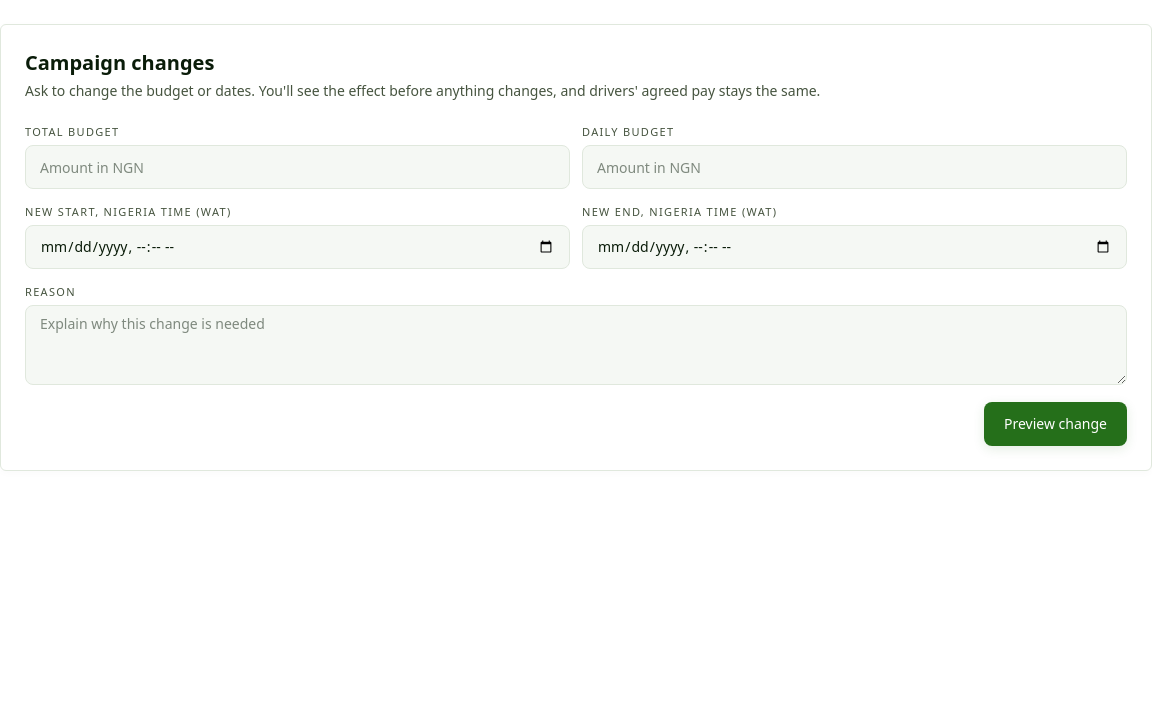
Test: CampaignChangePanel › clears a preview when Daily budget changes and requires another preview
Type "1100.00" into the field labelled "Total budget" at (298, 167), box [25, 145, 570, 189]
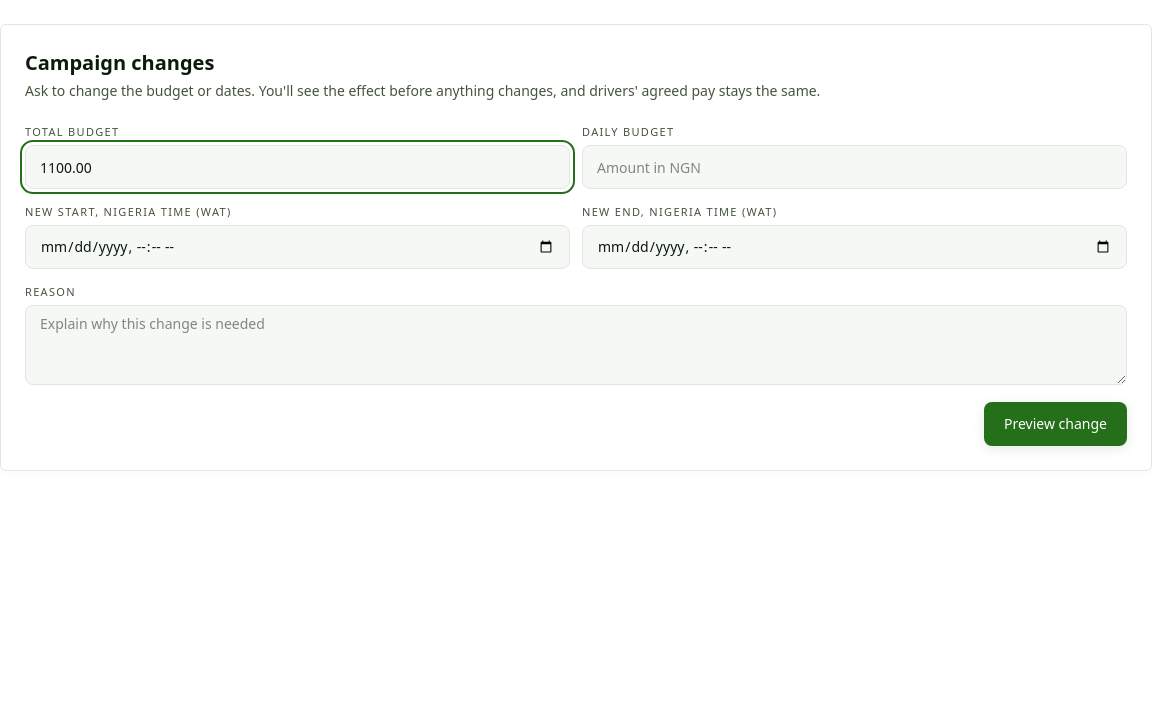
Type "Expansion" into the text box labelled "Reason" at (576, 345), box [25, 305, 1127, 385]
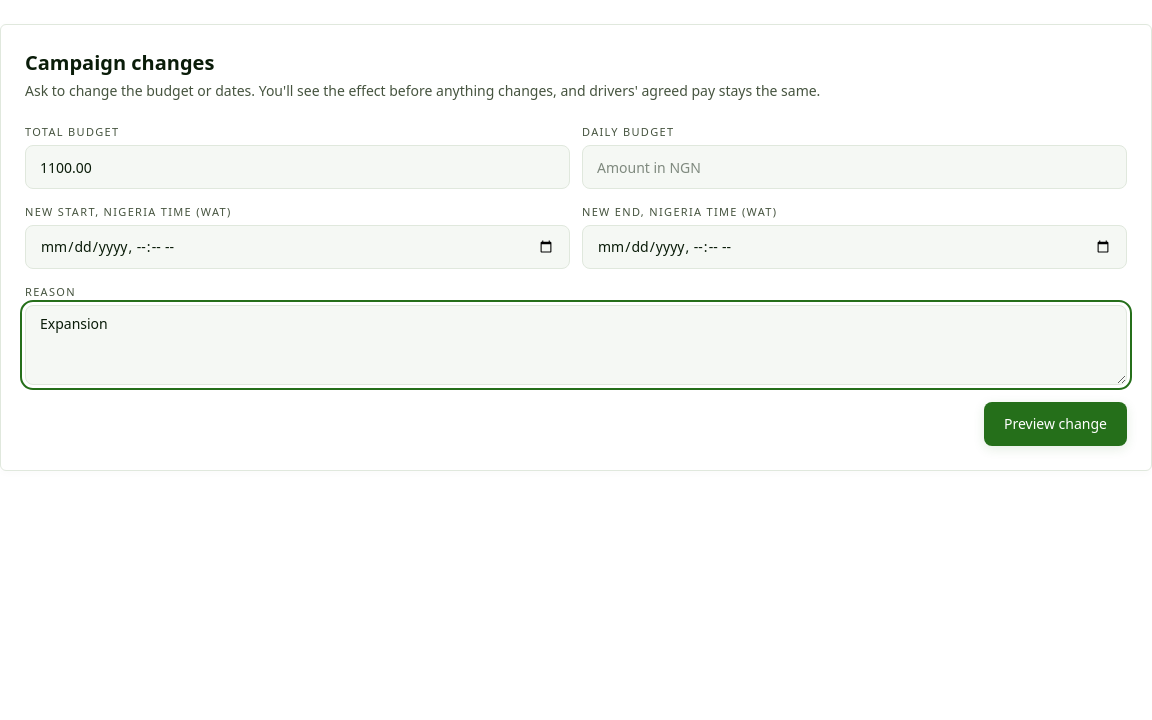
Click the button "Preview change" at (1056, 424), box [984, 402, 1127, 446]
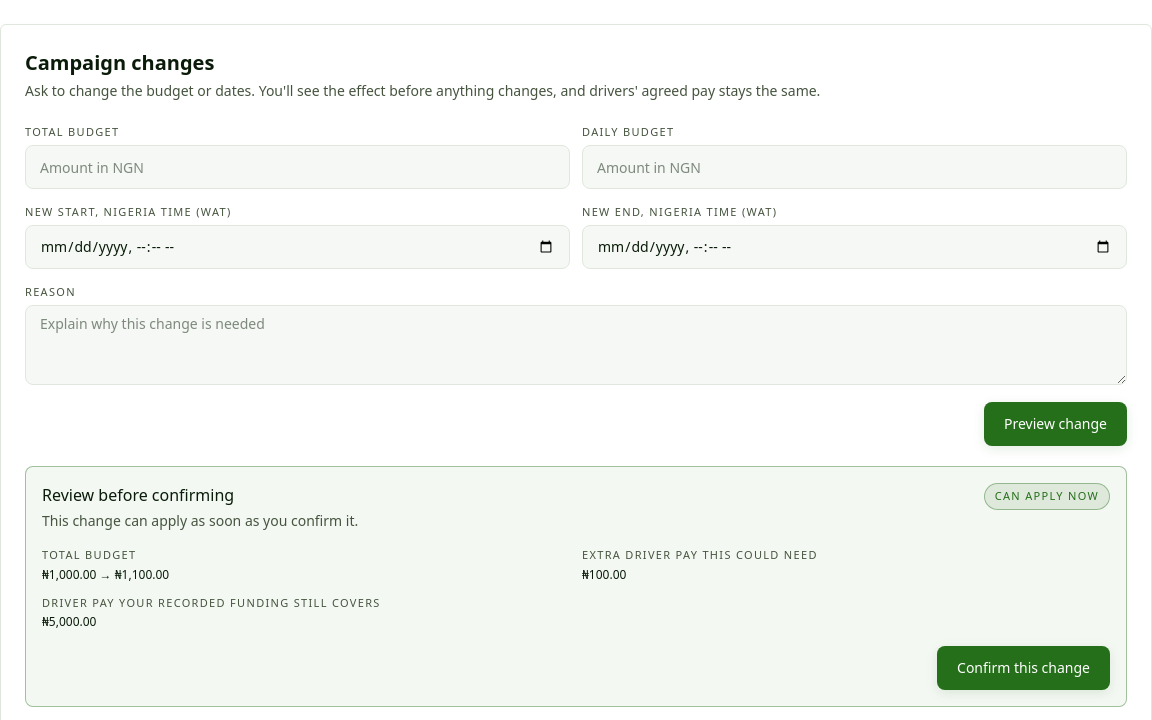
Now the button "Confirm this change" is shown, box [937, 646, 1110, 690]
Type "1200" into the field labelled "Daily budget" at (854, 167), box [582, 145, 1127, 189]
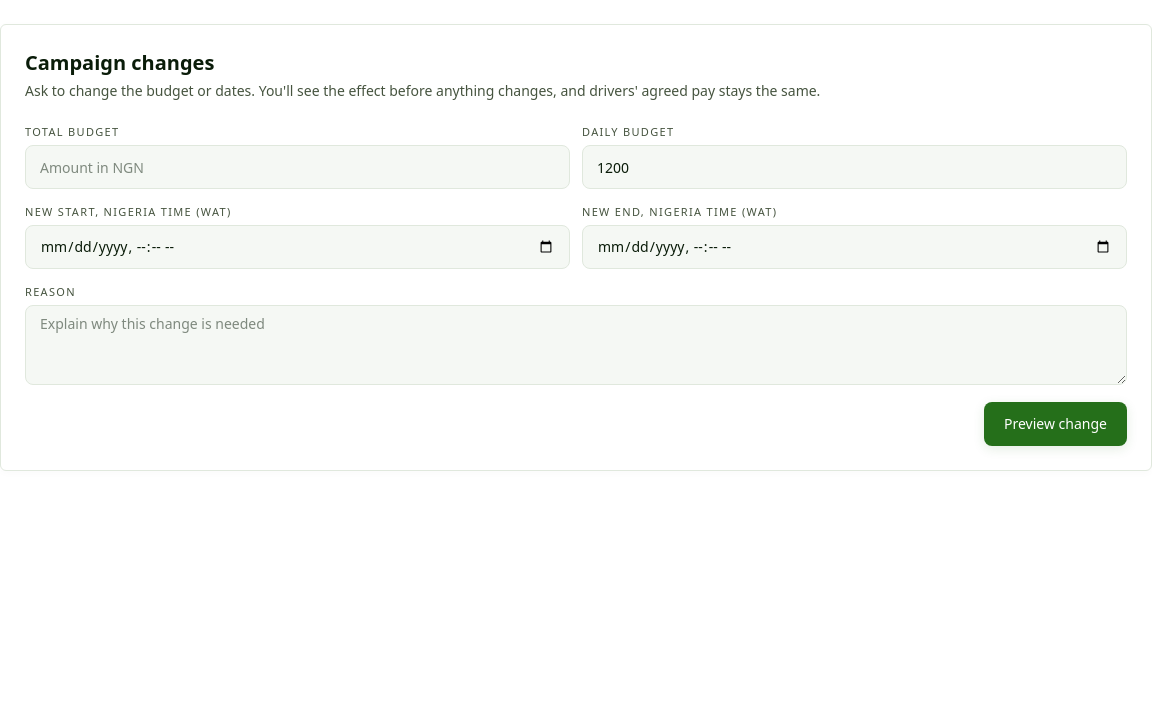
Now the button "Confirm this change" is gone
Type "Updated expansion" into the text box labelled "Reason" at (576, 345), box [25, 305, 1127, 385]
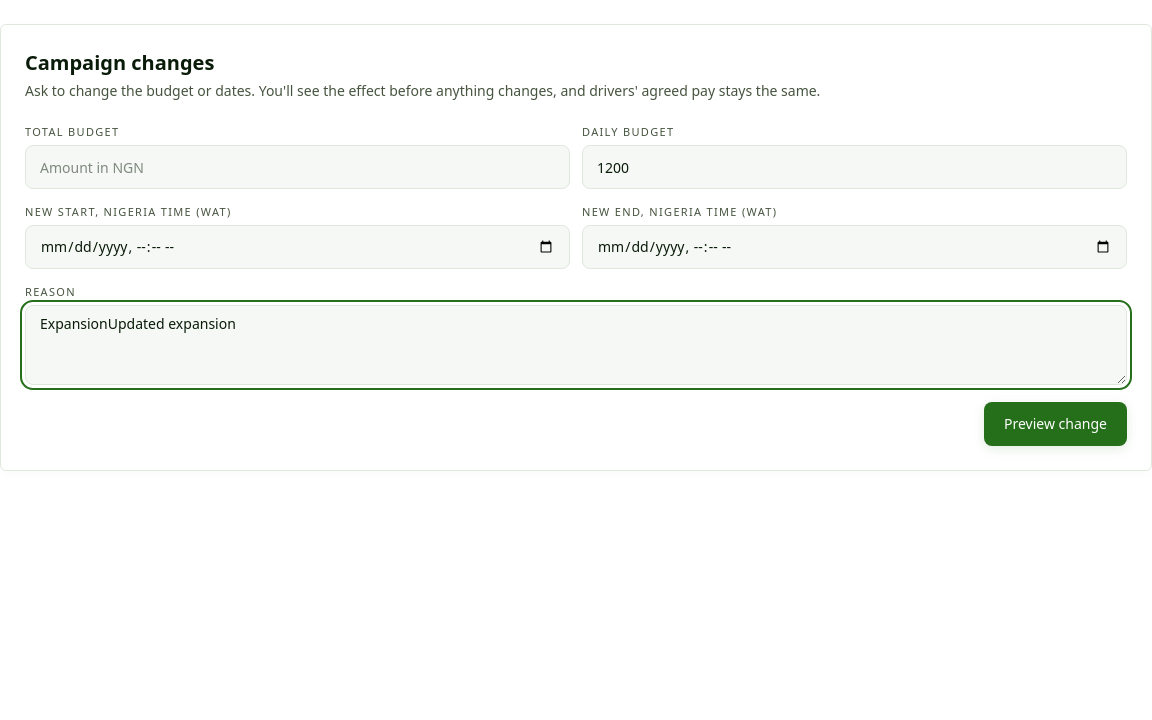
Click the button "Preview change" at (1056, 424), box [984, 402, 1127, 446]
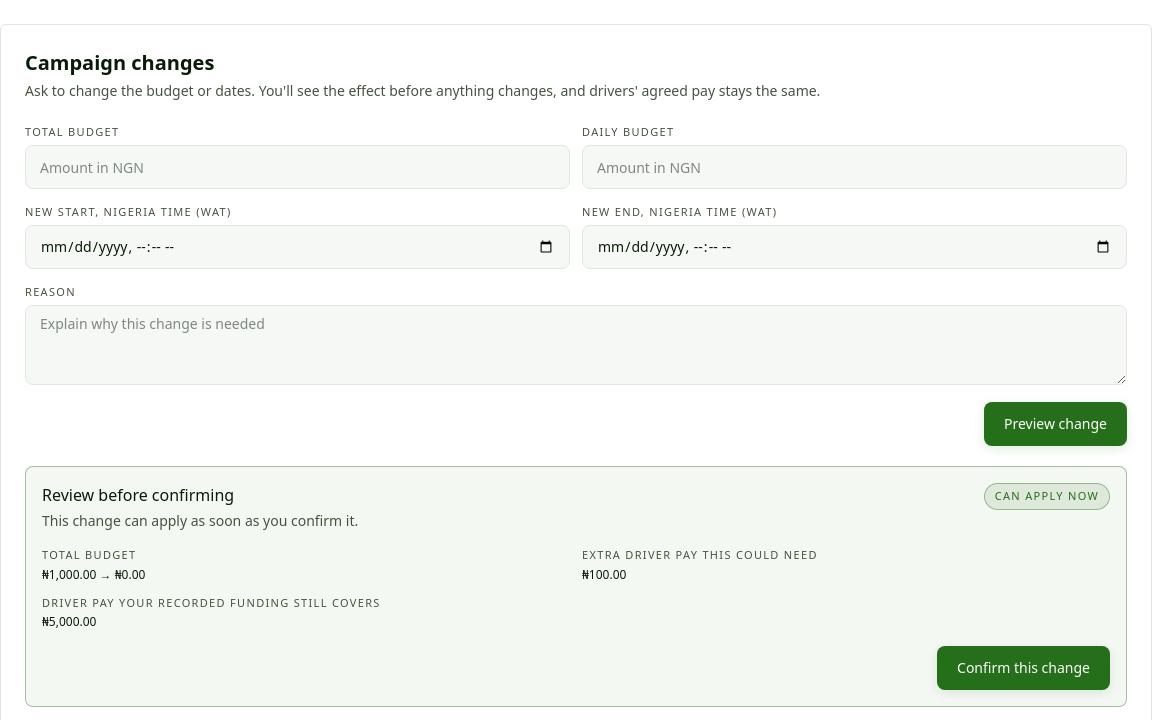
Now the button "Confirm this change" is shown, box [937, 646, 1110, 690]
